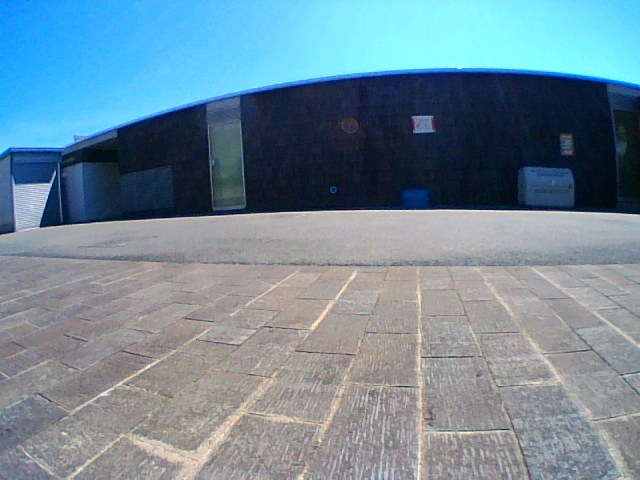blue_box: (402, 190, 428, 207)
